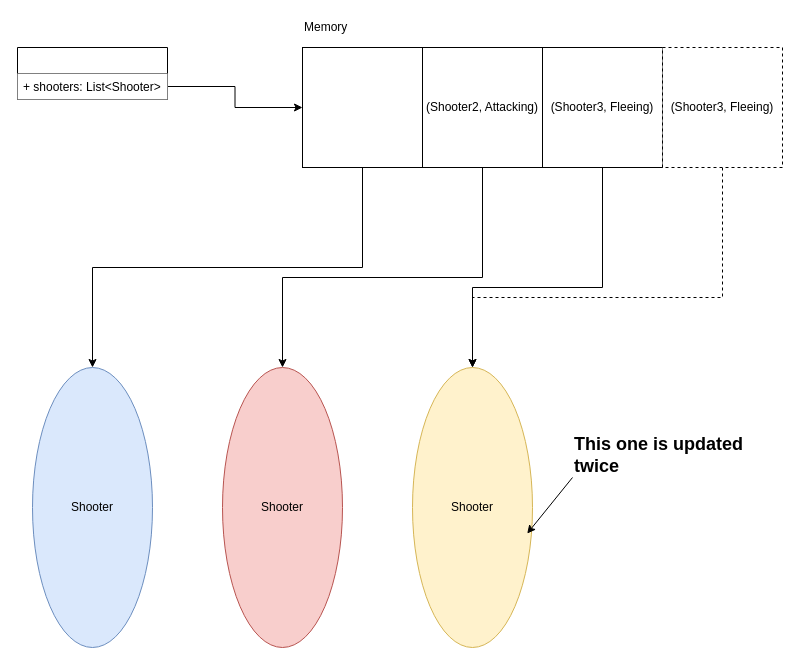
Some shapes in this 800 by 665 pixel diagram are drawn without their labels. The box of each missing label's shape, as (x1, y1, x2, y2) in pixels:
(Shooter1, Moving): (302, 46, 422, 168)
StateMachine: (16, 46, 168, 100)
